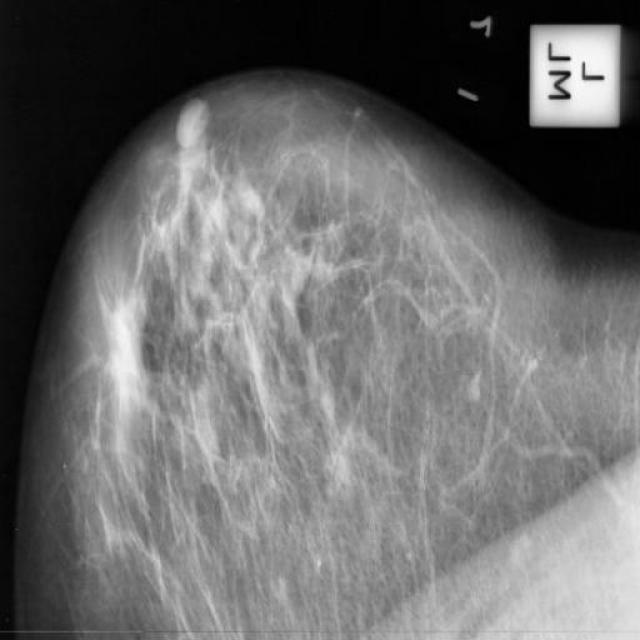cancer: (96, 278, 168, 402)
